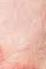plaque psoriasis: (0, 62, 38, 69), (0, 42, 4, 69)
